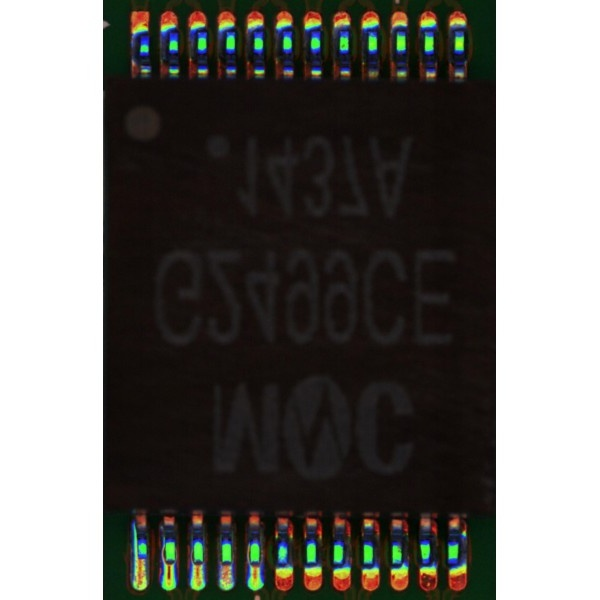Bad_podu: (222, 558, 232, 574), (194, 558, 203, 575), (166, 556, 175, 573), (137, 551, 146, 568), (251, 558, 260, 574)
Bad_qiaojiao: (131, 522, 136, 561), (160, 528, 165, 559)
